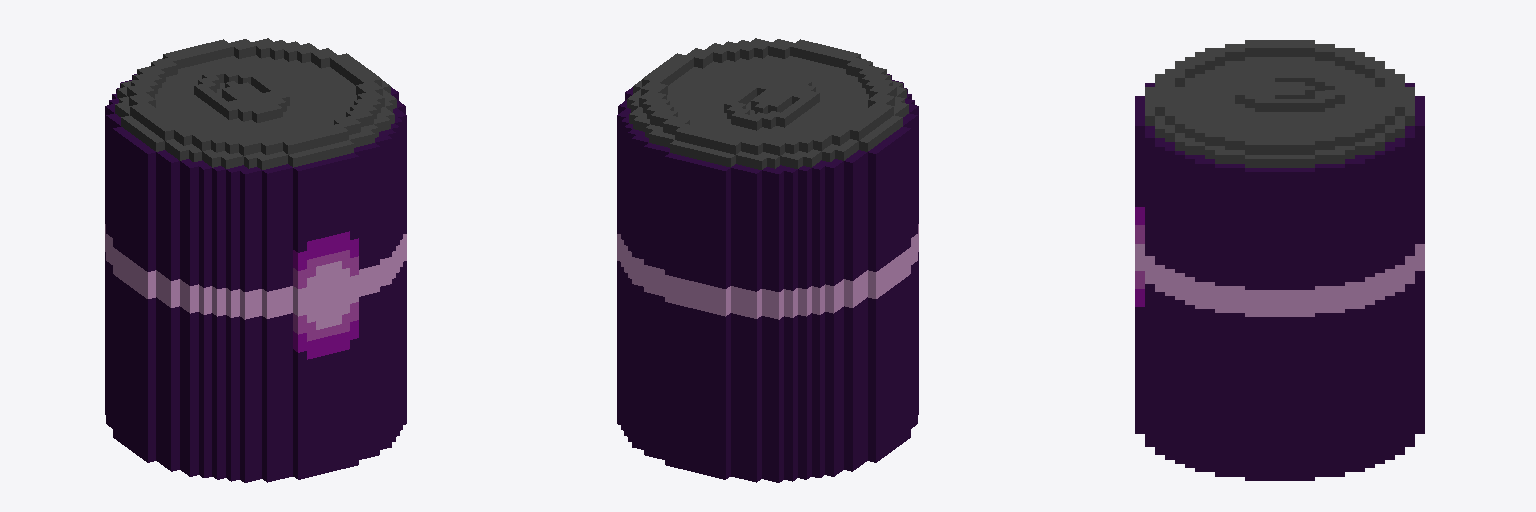
The picture shows the model from 3 angles: view 1: azimuth 30°, elevation 25°; view 2: azimuth 150°, elevation 25°; view 3: azimuth 270°, elevation 25°; orthographic projection.
Parts seen in each view (by area): view 1: object 1; view 2: object 1; view 3: object 1.
Boxes of the visible parts, box(x1,y1,x2,y2) form: object 1: box(105, 38, 406, 482); object 1: box(617, 38, 918, 482); object 1: box(1135, 40, 1424, 480).
Size of the model in its own units: 2.9 by 3.6 by 2.9.
1 materials, 1 textured.